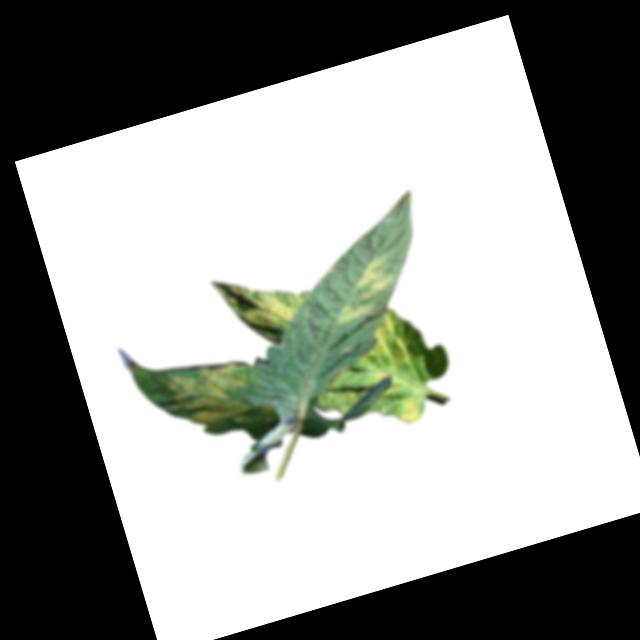Leaf_Mold: (166, 350, 279, 443), (210, 259, 308, 350), (321, 254, 404, 328), (359, 311, 410, 371), (394, 393, 429, 427), (370, 369, 399, 401)
